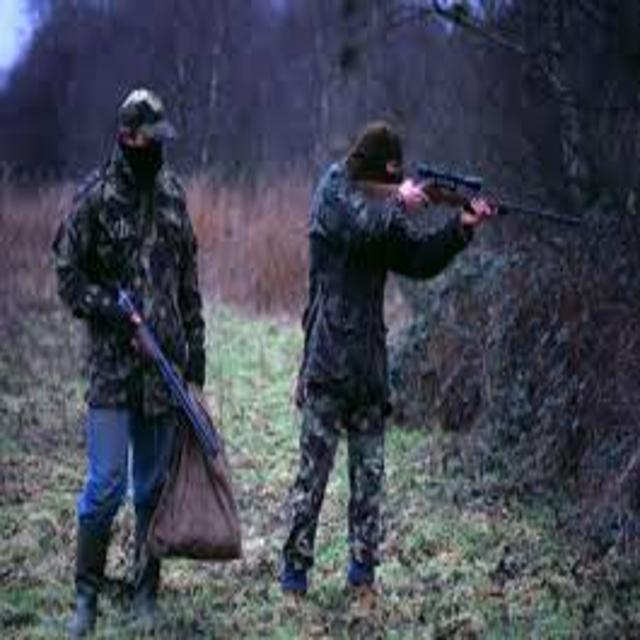gun: (314, 142, 618, 263), (86, 257, 236, 494)
poacher: (239, 97, 533, 626), (5, 66, 266, 636)
